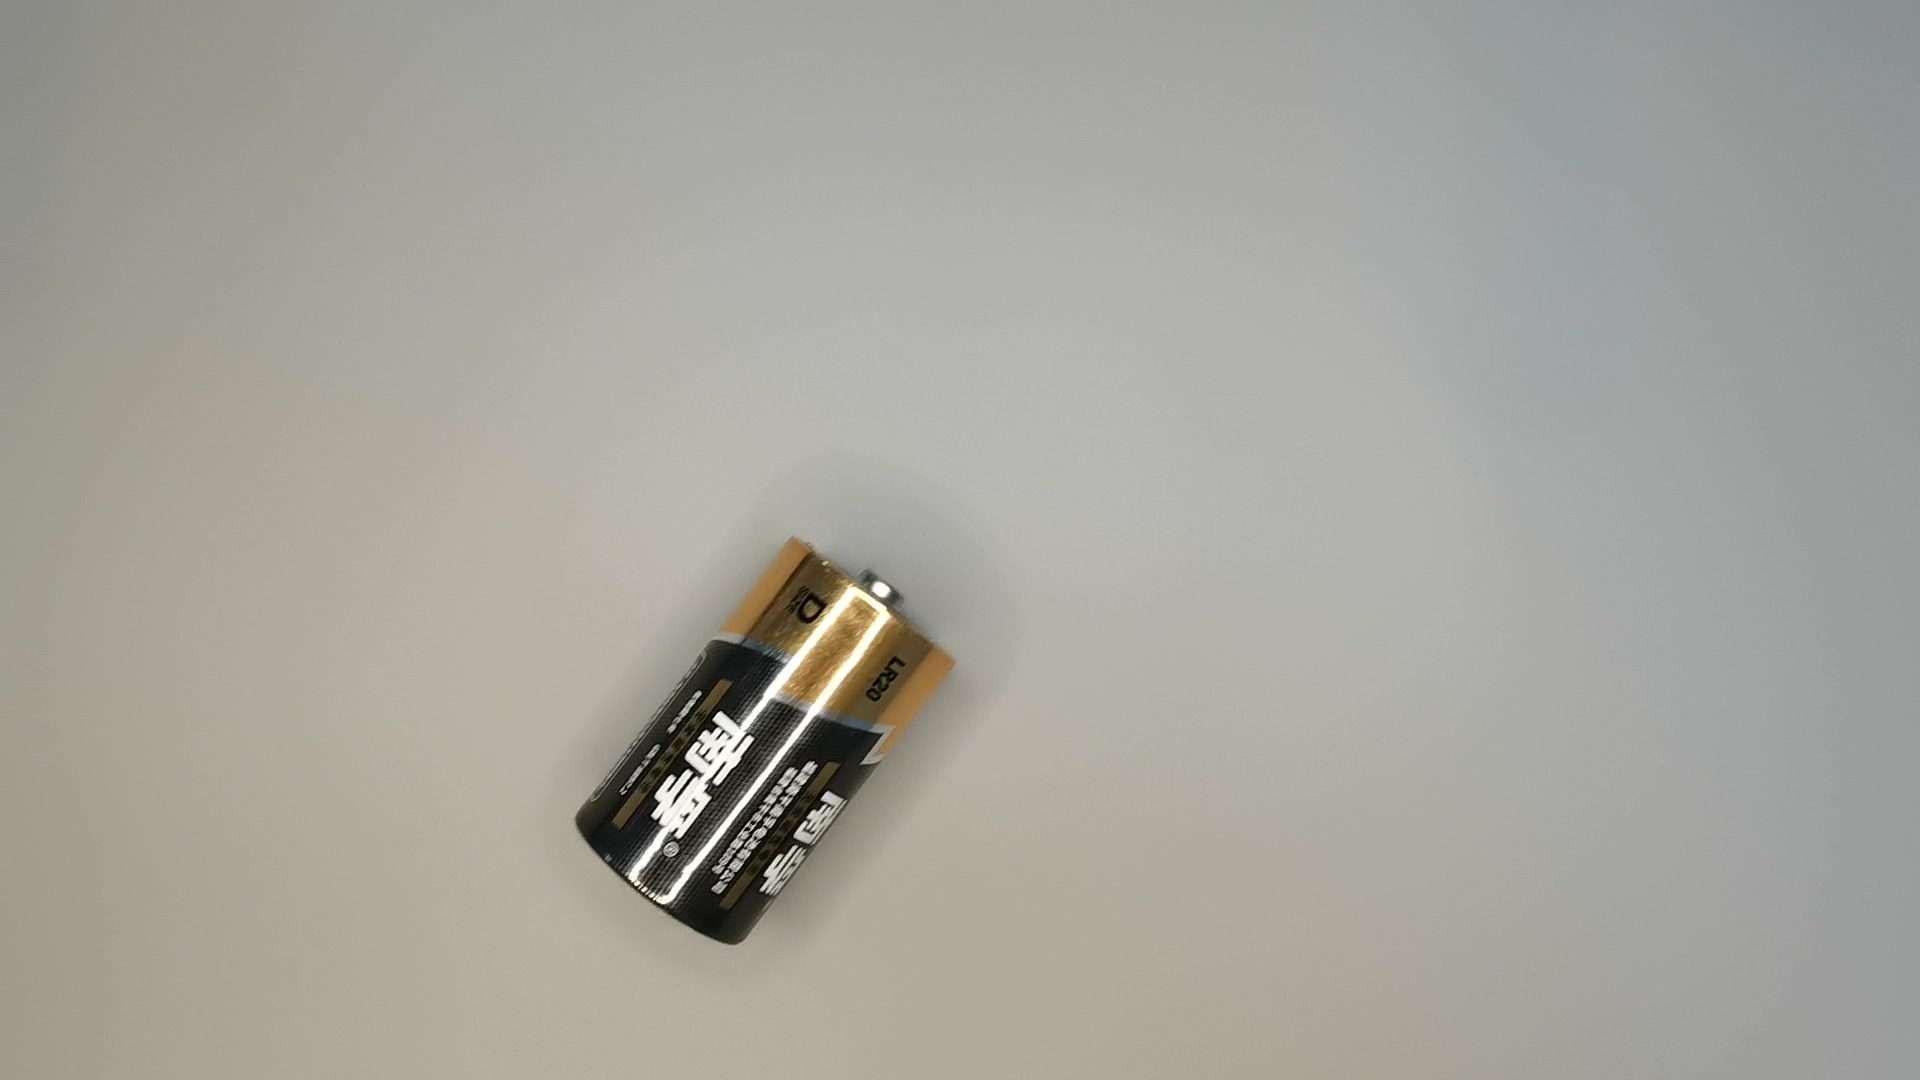battery: (570, 530, 963, 961)
